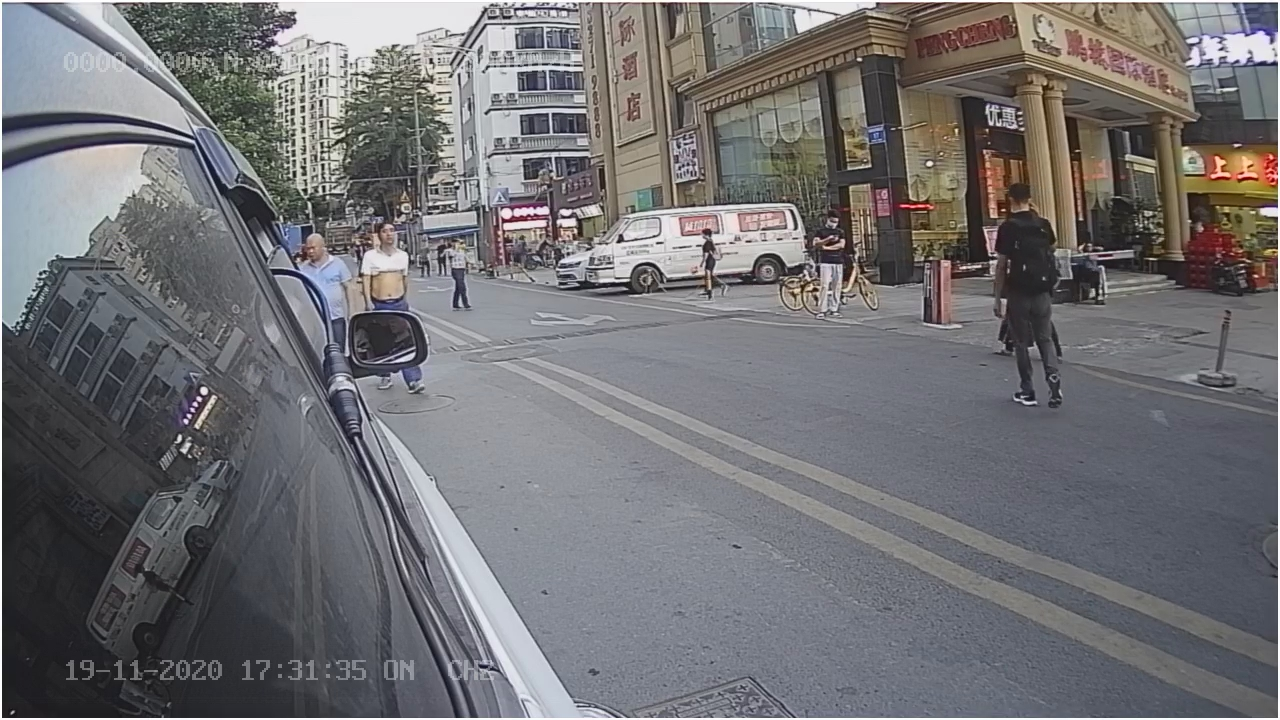person: (995, 183, 1066, 401)
